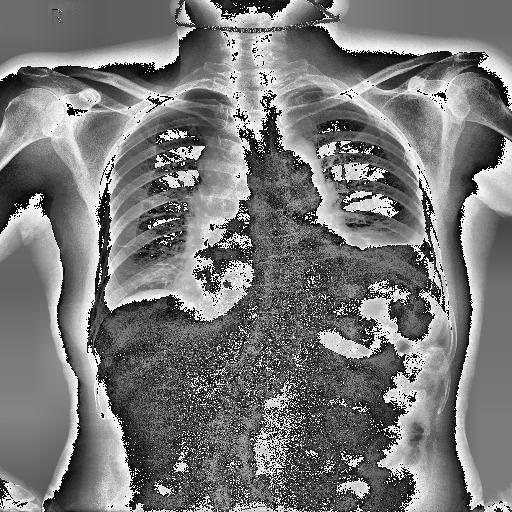0- Aortic enlargement: (261, 132, 324, 190)
10- Pleural effusion: (333, 230, 437, 332), (326, 240, 440, 298), (329, 226, 435, 284), (92, 278, 120, 330)
11- Pleural thickening: (92, 278, 120, 330), (282, 84, 332, 98)
7- Lung Opacity: (194, 124, 250, 204)
8- Nodule-Mass: (223, 281, 232, 288)
9- Other lesion: (217, 154, 306, 480), (193, 126, 338, 232), (186, 122, 262, 302), (223, 281, 232, 288)
